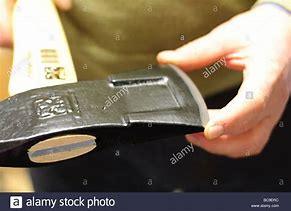axe: (1, 1, 213, 171)
